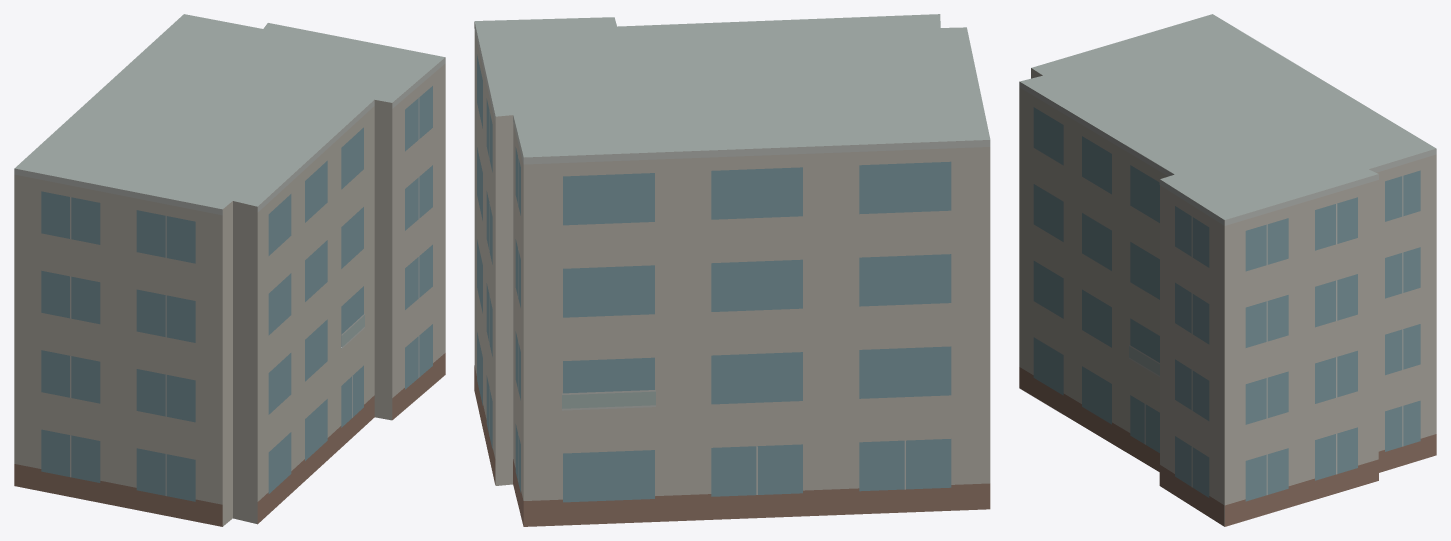
The model's file is survey-upis-32665177.glb.
The picture shows the model from 3 angles, left to right: view 1: azimuth 30°, elevation 25°; view 2: azimuth 150°, elevation 25°; view 3: azimuth 270°, elevation 25°; orthographic projection. The views are drawn at different scales.
Visible parts, largest first — view 1: survey-upis-32665177.tmp; view 2: survey-upis-32665177.tmp; view 3: survey-upis-32665177.tmp.
Boxes of the visible parts, <box> form: survey-upis-32665177.tmp: <box>14,14,445,526</box>; survey-upis-32665177.tmp: <box>474,14,990,526</box>; survey-upis-32665177.tmp: <box>1019,14,1436,526</box>.
Bounding box in the file's own units: 18.46 × 12.8 × 15.78.
